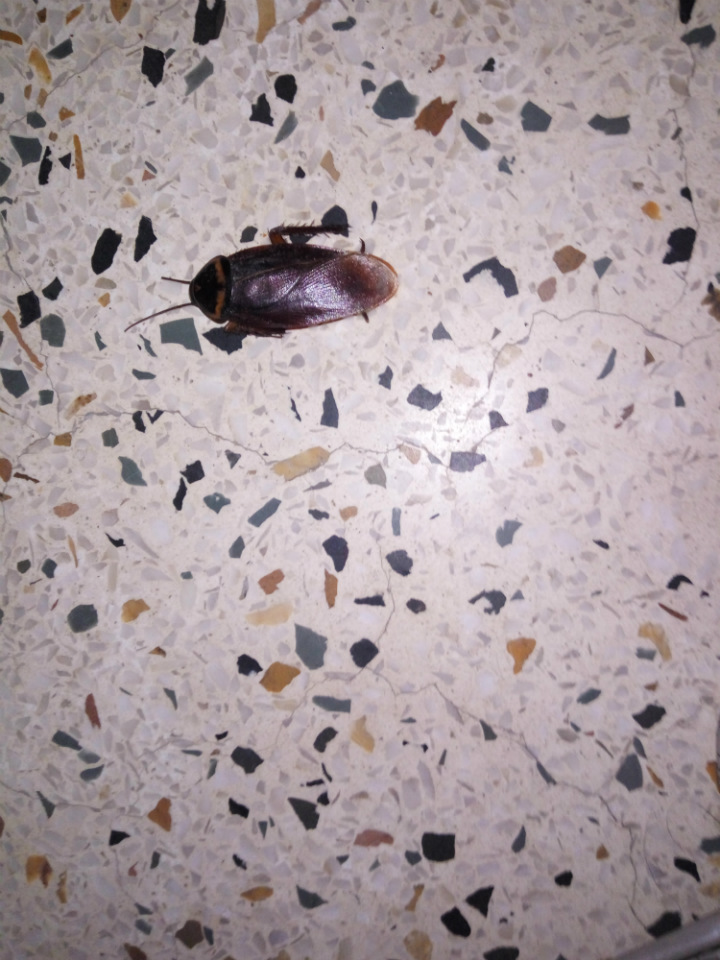cockroach: (75, 212, 503, 380)
